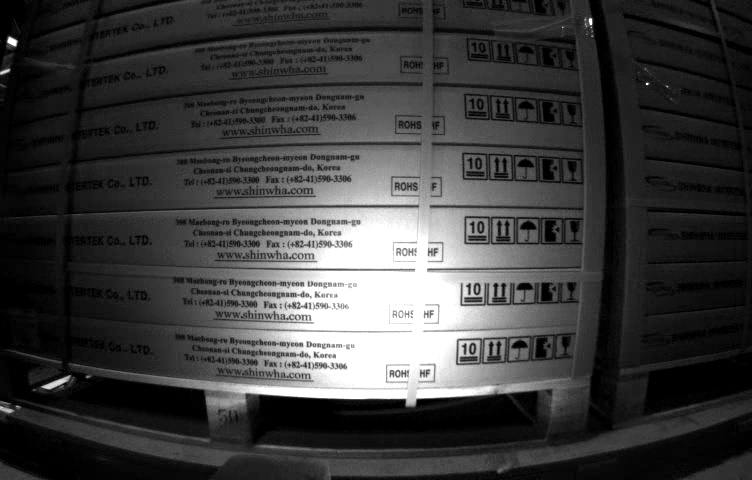True Barcode: (8, 310, 39, 349)
